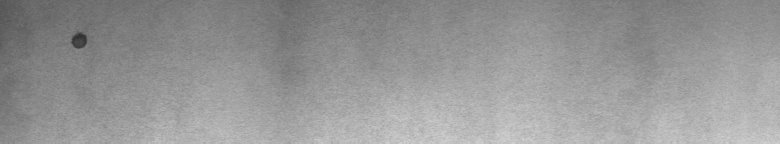fi: (64, 24, 92, 56)
